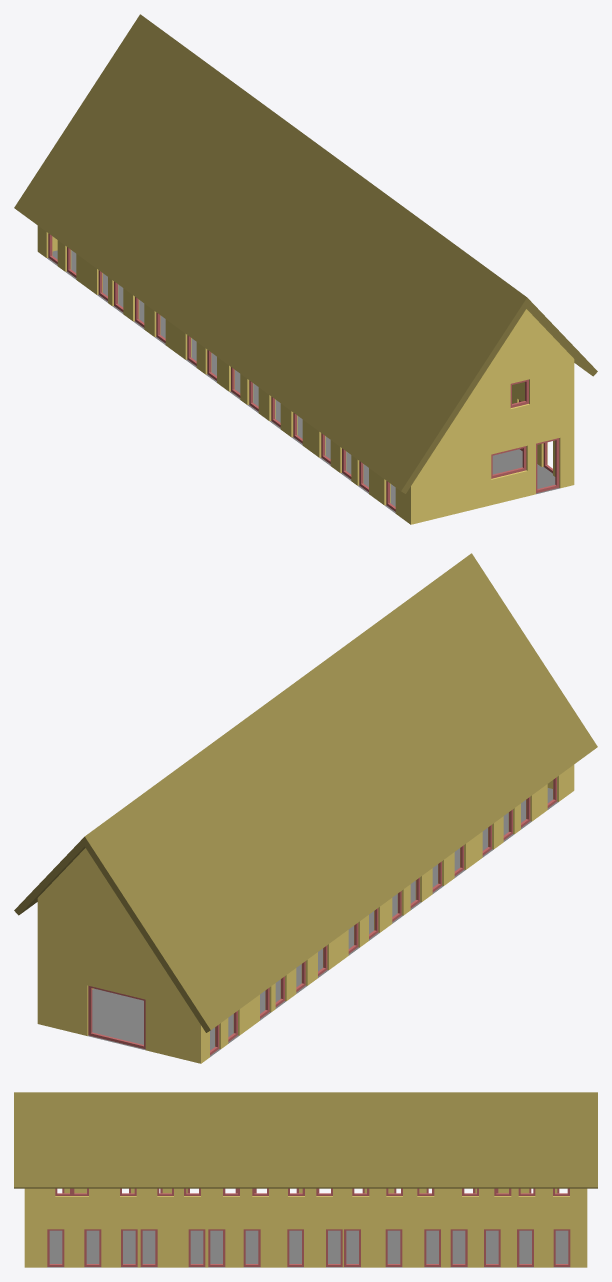
Rendered from result.glb.
3 renders of one model, top to bottom at view 1: azimuth 30°, elevation 25°; view 2: azimuth 150°, elevation 25°; view 3: azimuth 270°, elevation 25°, orthographic. The views are drawn at different scales.
Visible parts, largest first — view 1: f3ee47bb-9fbf-45ce-883a-671a6fface7e__undefined (×2), 1eb416bc-2b6f-4fd9-b2b5-b8bb151a5a8a__undefined, f66c7e94-d12d-4cd3-a4d8-9c13d5032f4e__Plane_68; view 2: f3ee47bb-9fbf-45ce-883a-671a6fface7e__undefined (×2), 1eb416bc-2b6f-4fd9-b2b5-b8bb151a5a8a__undefined, f66c7e94-d12d-4cd3-a4d8-9c13d5032f4e__Plane_68, 5ede35b4-844d-4b1c-b7c1-c17101d9d654__Box_9; view 3: f3ee47bb-9fbf-45ce-883a-671a6fface7e__undefined, 1eb416bc-2b6f-4fd9-b2b5-b8bb151a5a8a__undefined, f66c7e94-d12d-4cd3-a4d8-9c13d5032f4e__Plane_68, b58fa4e4-321c-4a2a-96ff-531a241d9a4e__Box_108, 27946a9f-b7ca-4032-9650-48ce6adb5e29__Box_111, 777118e1-3c5f-48c7-aeb6-4fb237de752e__Box_117, 18984d56-0987-4331-adb6-0e24a3aa6c59__Box_120, 936dda0f-548e-4fac-adc5-8c2596248909__Box_123, 3af3ef77-d2cf-458c-8ac3-8b697384ddc3__Box_126, 2e32f1c7-b438-4d7f-b5a1-8deba676fc93__Box_138, 42c0f288-695e-4aef-92f8-9bc50dd7bfbe__Box_144, f8c25cd8-412f-496c-9161-0e3cfcebad31__Box_153 (+7 smaller).
Boxes of the visible parts, x1,y1,x2,y2 form: f3ee47bb-9fbf-45ce-883a-671a6fface7e__undefined (×2): (14, 14, 597, 493); 1eb416bc-2b6f-4fd9-b2b5-b8bb151a5a8a__undefined: (37, 225, 574, 524); f66c7e94-d12d-4cd3-a4d8-9c13d5032f4e__Plane_68: (47, 250, 559, 513); f3ee47bb-9fbf-45ce-883a-671a6fface7e__undefined (×2): (14, 553, 597, 1032); 1eb416bc-2b6f-4fd9-b2b5-b8bb151a5a8a__undefined: (37, 764, 574, 1063); f66c7e94-d12d-4cd3-a4d8-9c13d5032f4e__Plane_68: (87, 788, 558, 1056); 5ede35b4-844d-4b1c-b7c1-c17101d9d654__Box_9: (88, 985, 145, 1049); f3ee47bb-9fbf-45ce-883a-671a6fface7e__undefined: (14, 1092, 597, 1188); 1eb416bc-2b6f-4fd9-b2b5-b8bb151a5a8a__undefined: (24, 1188, 587, 1267); f66c7e94-d12d-4cd3-a4d8-9c13d5032f4e__Plane_68: (47, 1230, 570, 1267); b58fa4e4-321c-4a2a-96ff-531a241d9a4e__Box_108: (47, 1229, 64, 1266); 27946a9f-b7ca-4032-9650-48ce6adb5e29__Box_111: (84, 1229, 101, 1266); 777118e1-3c5f-48c7-aeb6-4fb237de752e__Box_117: (140, 1229, 157, 1266); 18984d56-0987-4331-adb6-0e24a3aa6c59__Box_120: (188, 1229, 205, 1266); 936dda0f-548e-4fac-adc5-8c2596248909__Box_123: (208, 1229, 225, 1266); 3af3ef77-d2cf-458c-8ac3-8b697384ddc3__Box_126: (243, 1229, 260, 1266); 2e32f1c7-b438-4d7f-b5a1-8deba676fc93__Box_138: (385, 1229, 402, 1266); 42c0f288-695e-4aef-92f8-9bc50dd7bfbe__Box_144: (450, 1229, 467, 1266); f8c25cd8-412f-496c-9161-0e3cfcebad31__Box_153: (553, 1229, 570, 1266).
Bounding box in the file's own units: 813 × 812 × 2767.
